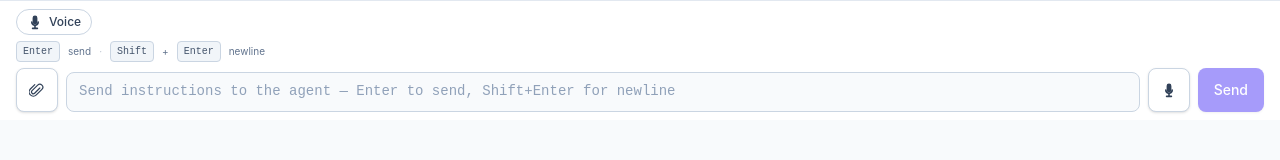
Scenario: MessageInput › shows slash command indicator when input begins with /
Replace the text in the text box with test id "message-textarea" with "/stop" at (603, 92), box [66, 72, 1140, 112]
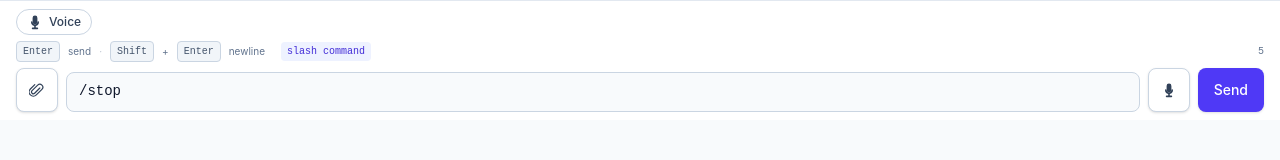
Check: the text "slash command" is shown, box [281, 42, 371, 61]
